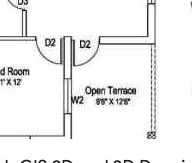door: (33, 32, 63, 67), (72, 35, 101, 68)
window: (59, 73, 77, 120)
